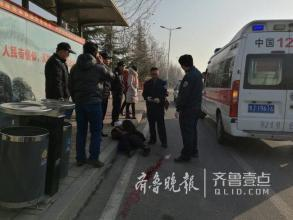Fall-Detected: (105, 112, 151, 157)
